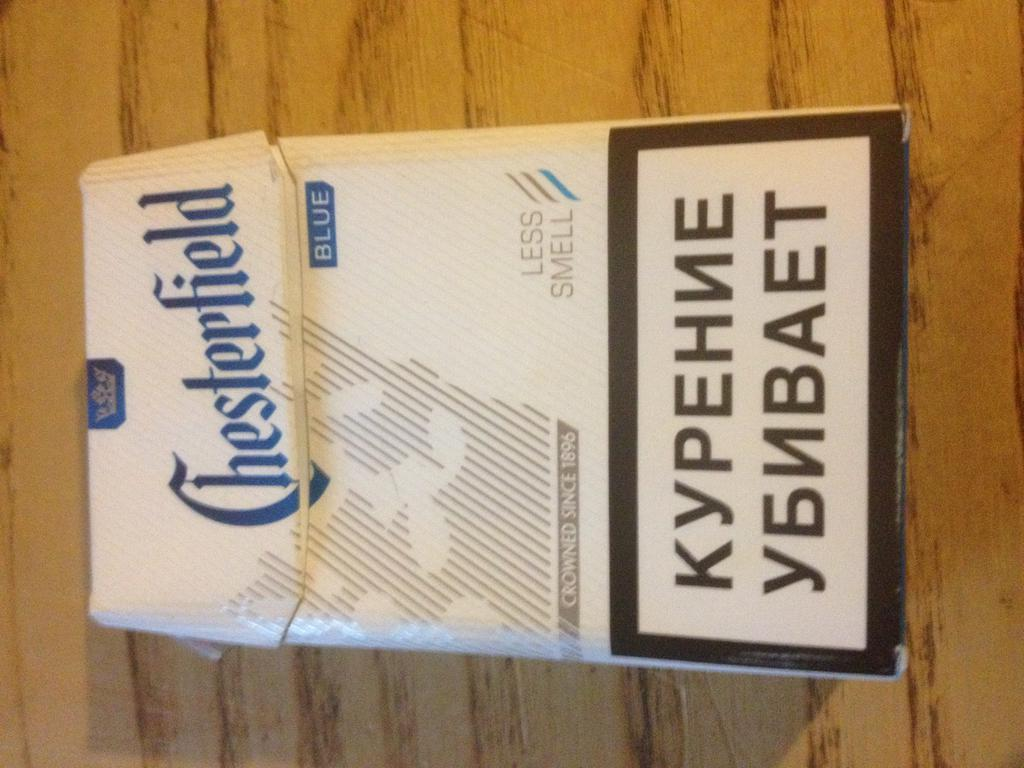chesterfield_blue: (81, 140, 898, 644)
